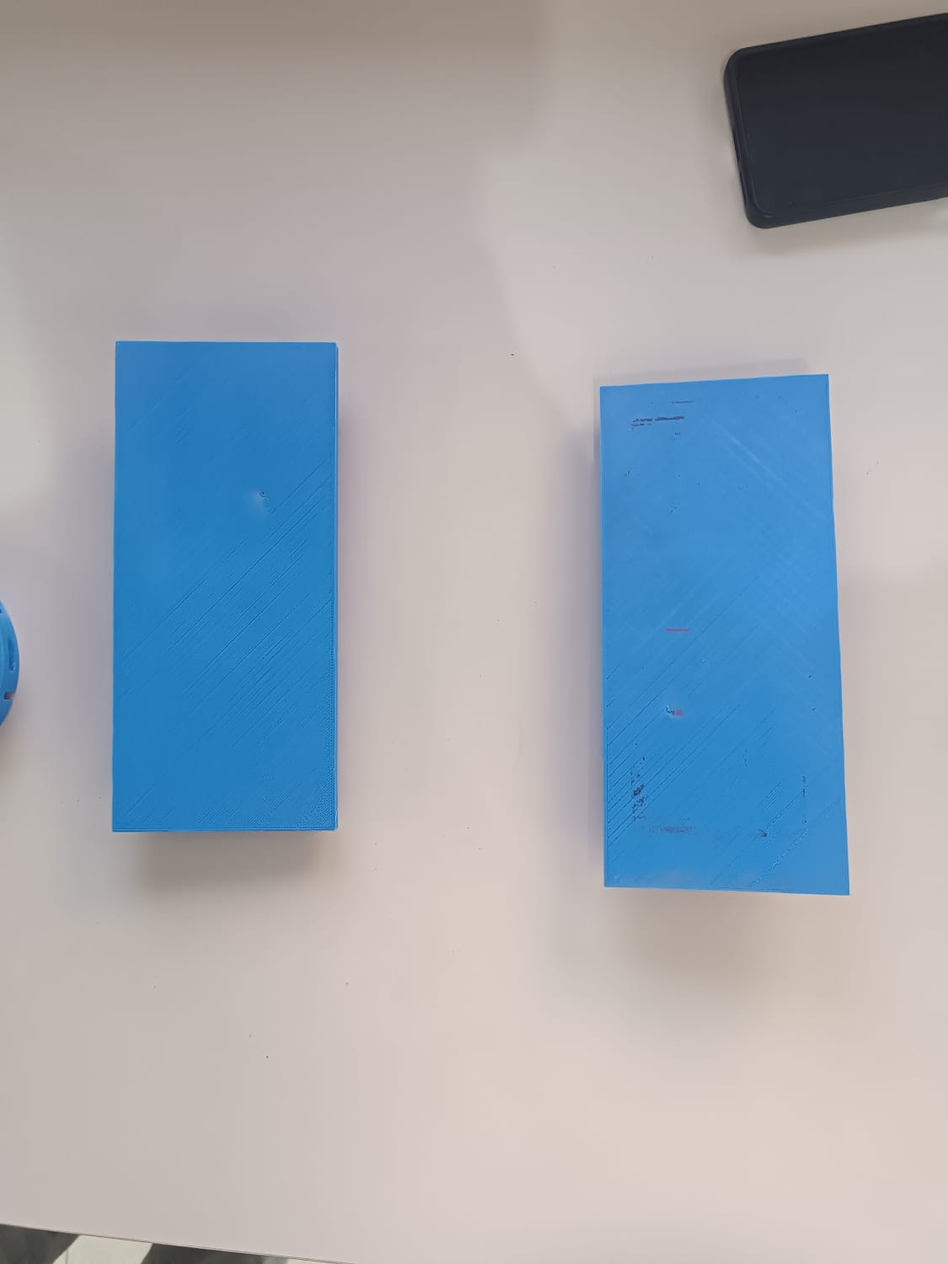Rectangular: (586, 363, 861, 905), (106, 333, 343, 831)
